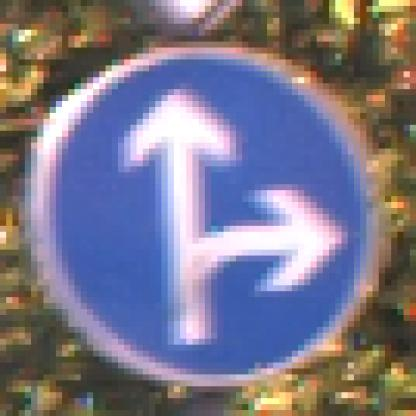Straight or Right: (38, 43, 380, 381)
